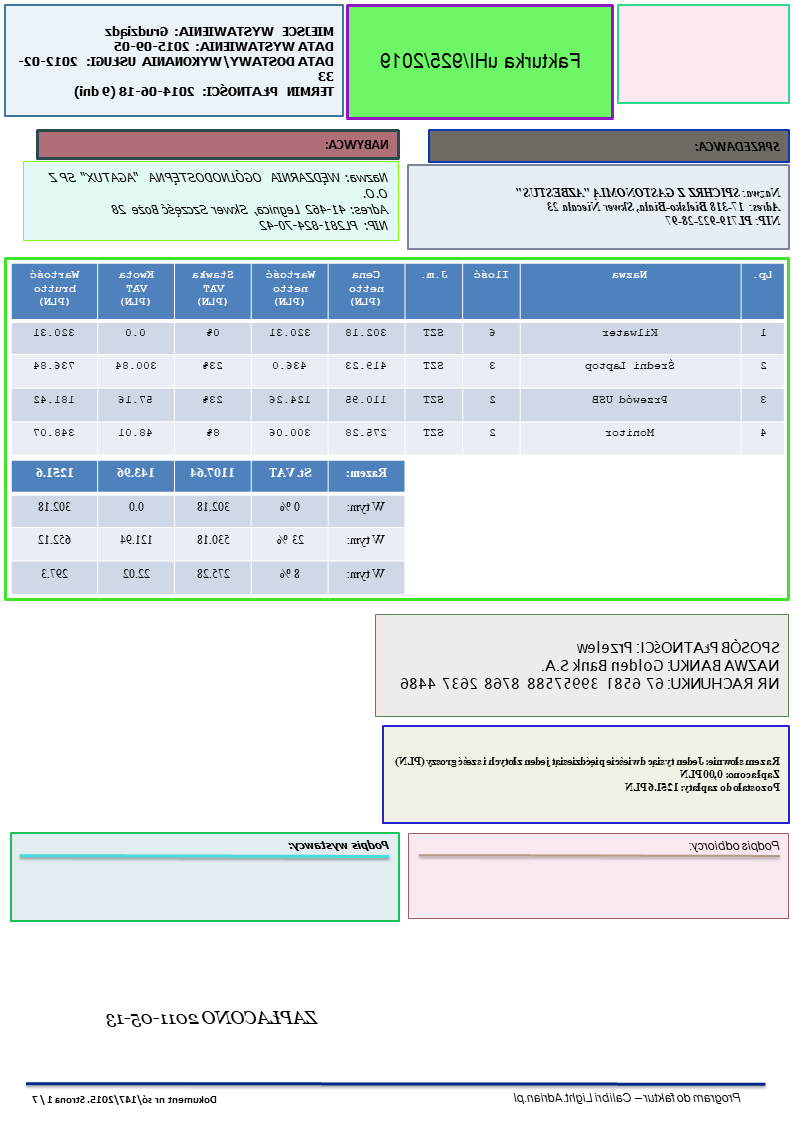Table: (11, 261, 786, 457), (10, 459, 406, 597)
TextBox: (15, 22, 337, 101), (45, 168, 392, 235), (398, 637, 783, 695), (393, 752, 783, 794), (513, 183, 783, 229), (105, 1005, 320, 1032), (377, 49, 584, 73), (511, 1087, 743, 1108), (31, 1091, 219, 1108), (287, 835, 392, 856), (688, 836, 783, 855), (692, 136, 784, 155), (324, 135, 392, 154)
